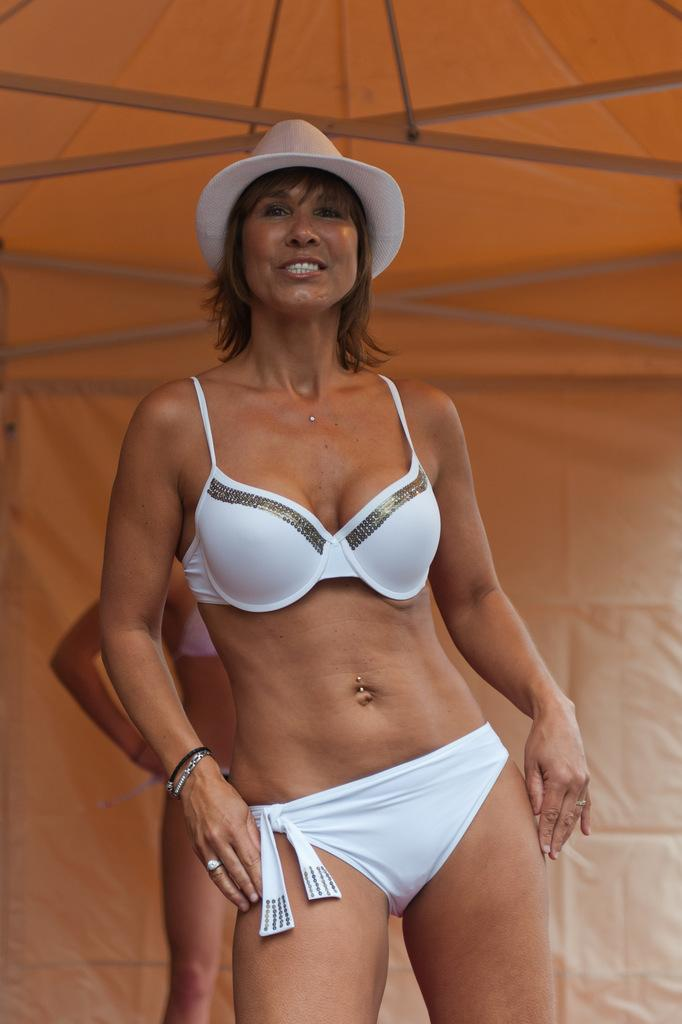Hat: (196, 120, 406, 279)
